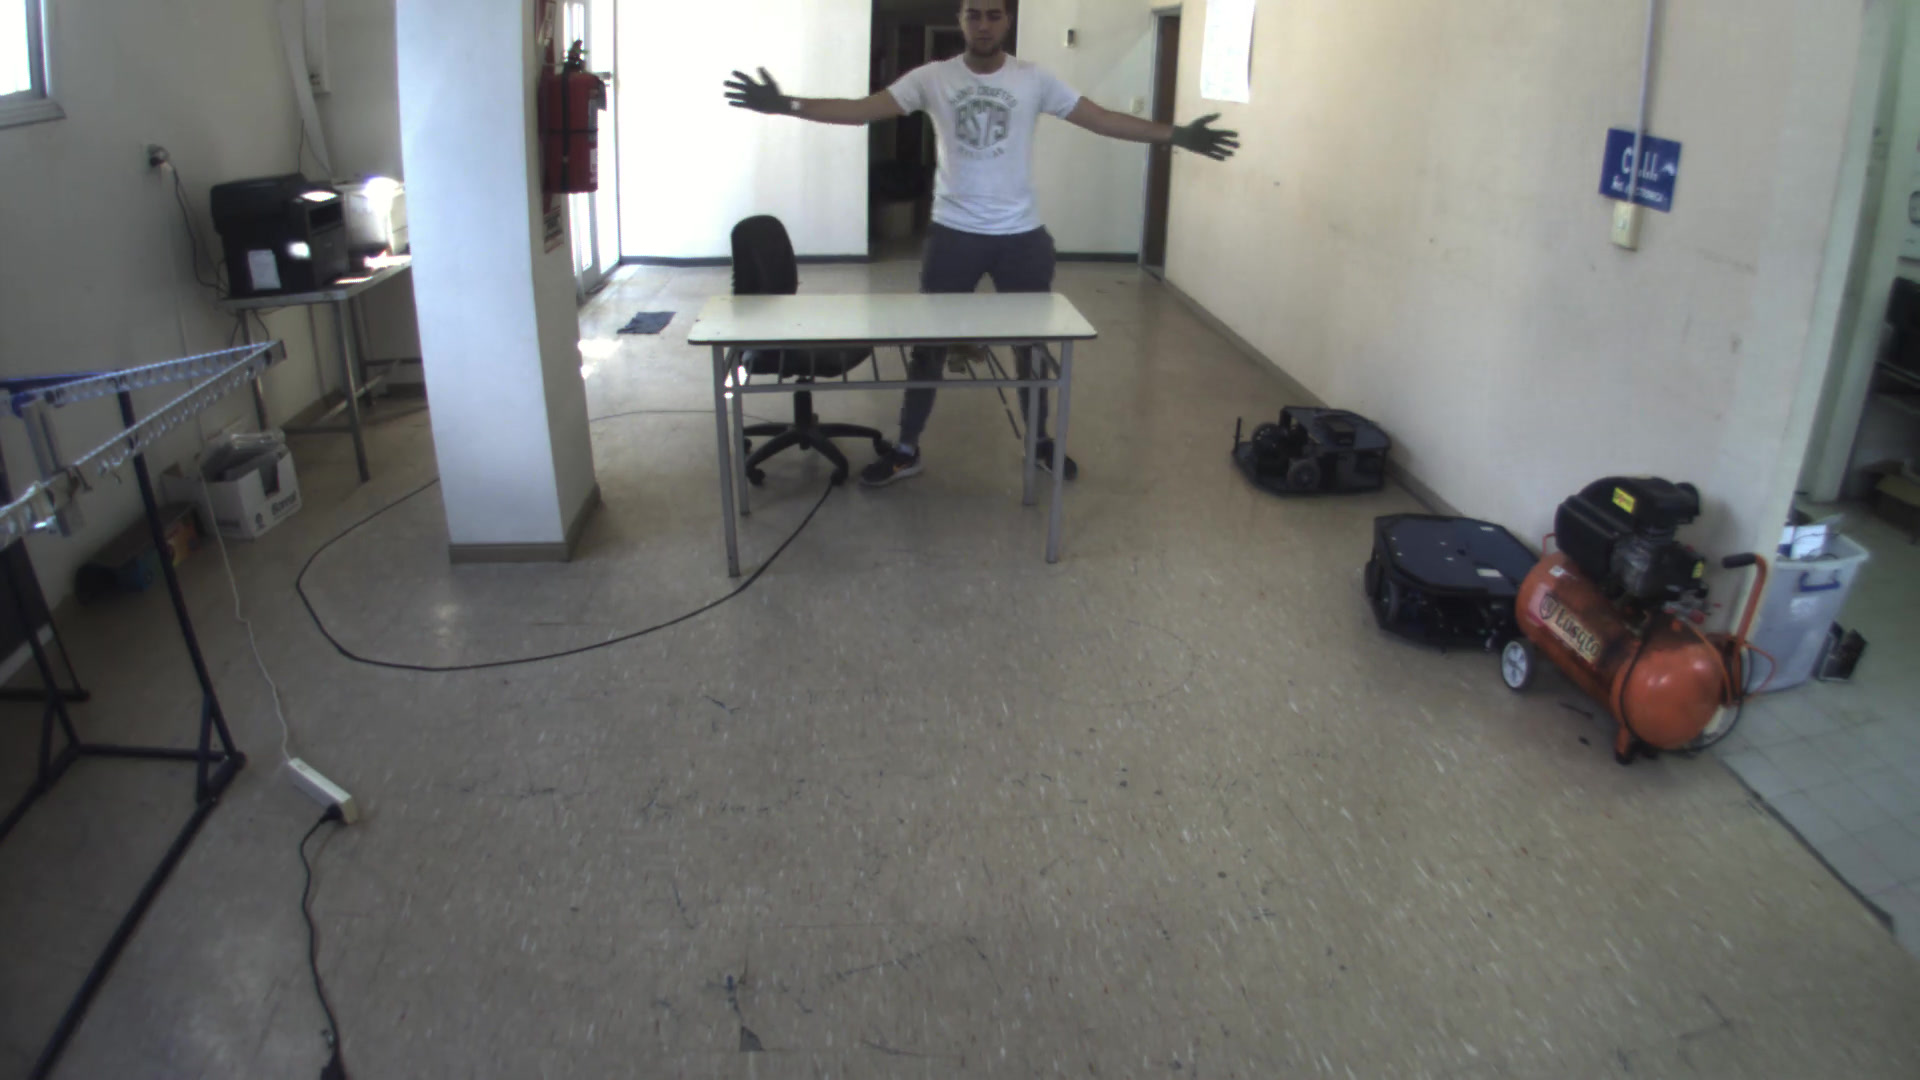hand: (715, 57, 796, 131), (1170, 104, 1249, 171)
